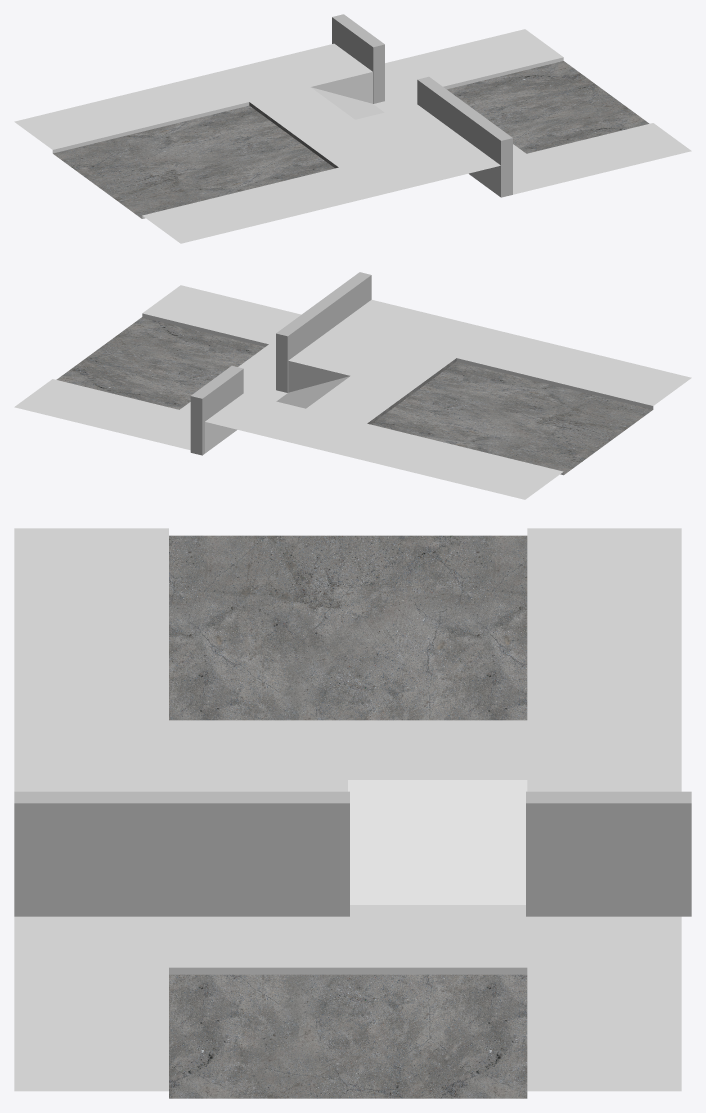
The model's file is path_up.fbx.
3 views of the same model, one above another, from view 1: azimuth 30°, elevation 25°; view 2: azimuth 150°, elevation 25°; view 3: azimuth 270°, elevation 25° (orthographic). The views are drawn at different scales.
Parts seen in each view (by area): view 1: up_path; view 2: up_path; view 3: up_path.
Boxes of the visible parts, x1,y1,x2,y2 form: up_path: (14, 14, 691, 243); up_path: (14, 272, 691, 499); up_path: (14, 528, 691, 1098).
Bounding box in the file's own units: 16098 × 1816 × 9233.
